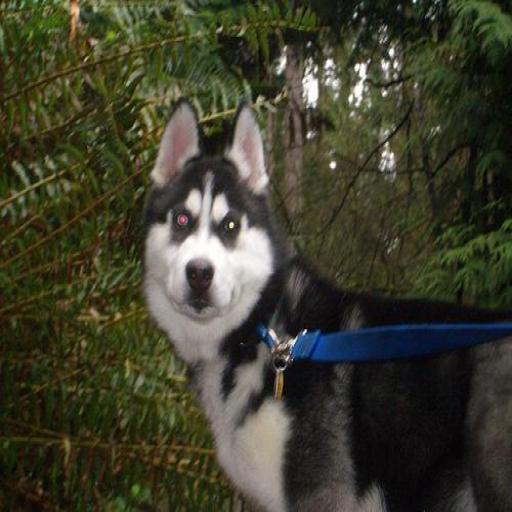dog_face: (157, 99, 270, 324)
